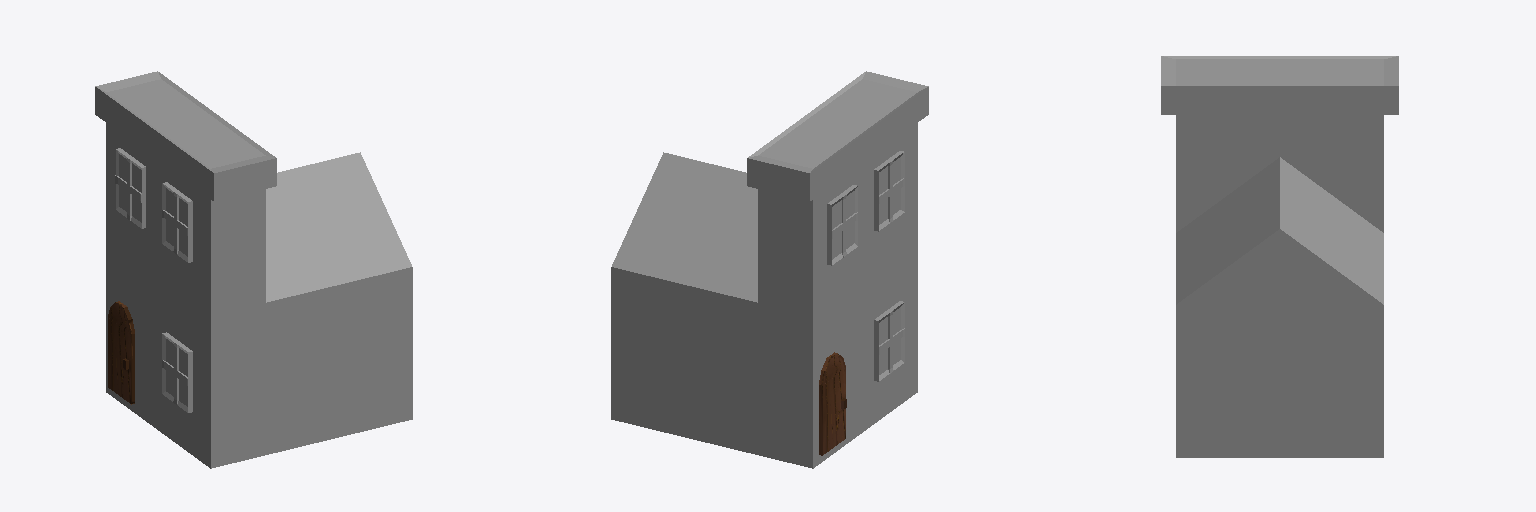
3 renders of one model, left to right at view 1: azimuth 30°, elevation 25°; view 2: azimuth 150°, elevation 25°; view 3: azimuth 270°, elevation 25°, orthographic.
Parts seen in each view (by area): view 1: Cube.004_Cube.000, Cube.000, Cube.005, Cube.004, Cube.006; view 2: Cube.004_Cube.000, Cube.000, Cube.006, Cube.004, Cube.005; view 3: Cube.004_Cube.000.
Part boxes in pixels (bbox=[...]): Cube.004_Cube.000: bbox=[95, 71, 412, 468]; Cube.000: bbox=[108, 301, 134, 404]; Cube.005: bbox=[162, 182, 192, 262]; Cube.004: bbox=[162, 332, 192, 412]; Cube.006: bbox=[115, 148, 145, 228]; Cube.004_Cube.000: bbox=[611, 71, 928, 468]; Cube.000: bbox=[819, 352, 846, 455]; Cube.006: bbox=[827, 185, 857, 265]; Cube.004: bbox=[874, 301, 904, 381]; Cube.005: bbox=[874, 151, 904, 231]; Cube.004_Cube.000: bbox=[1161, 56, 1398, 457].
Size of the model in its own units: 8.8 by 12.14 by 8.66.
Materials: 3 (1 with a texture image).